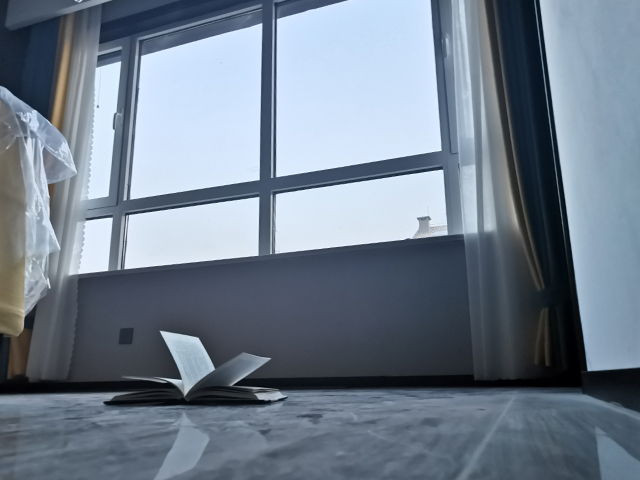book: (103, 327, 293, 409)
curtain: (435, 1, 574, 386), (1, 1, 104, 390)
